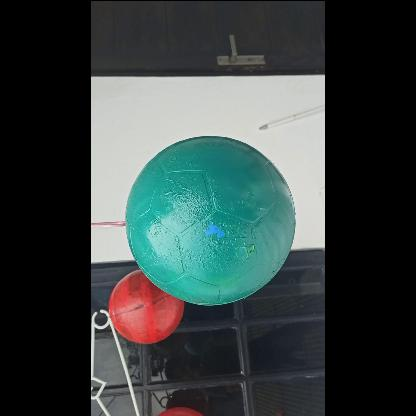green_ball: (126, 134, 294, 302)
